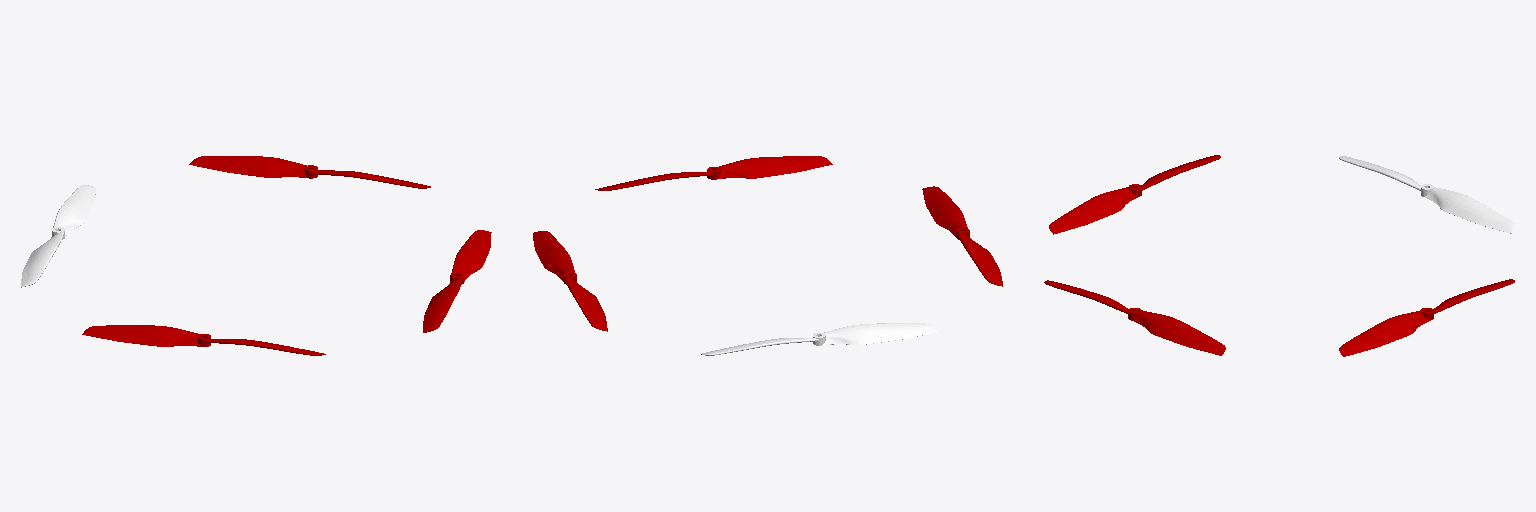
robot.urdf — swarmdrone:
<?xml version="1.0" encoding="utf-8"?>
<robot name="swarmdrone">
  <link name="base_link">
    <inertial>
      <origin xyz="0.052099 0.1036 0.13079" rpy="0 0 0" />
      <mass value="0.75873" />
      <inertia ixx="0.00031091" ixy="2.8345E-07" ixz="3.5555E-09" iyy="0.00062664" iyz="-3.1582E-08" izz="0.00051493" />
    </inertial>
    <visual>
      <geometry>
        <mesh filename="package://swarmdrone/meshes/base_link.STL" />
      </geometry>
      <material name="grey"><color rgba="0.79 0.81 0.93 1" /></material>
    </visual>
    <collision>
      <geometry>
        <mesh filename="package://swarmdrone/meshes/base_link.STL" />
      </geometry>
    </collision>
  </link>

  <link name="prop1">
    <inertial>
      <origin xyz="0 0.0052117 0" rpy="0 0 0" />
      <mass value="0.0061064" />
      <inertia ixx="4.7646E-06" ixy="0" ixz="-1.8753E-09" iyy="4.8671E-06" iyz="0" izz="1.5658E-07" />
    </inertial>
    <visual>
      <geometry><mesh filename="package://swarmdrone/meshes/prop1.STL" /></geometry>
      <material name="red"><color rgba="0.75 0 0 1" /></material>
    </visual>
    <collision>
      <geometry><mesh filename="package://swarmdrone/meshes/prop1.STL" /></geometry>
    </collision>
  </link>

  <joint name="prop1_joint" type="continuous">
    <origin xyz="0.16722 -0.011705 0.11613" rpy="1.5708 0 -2.3605" />
    <parent link="base_link" />
    <child link="prop1" />
    <axis xyz="0 1 0" />
  </joint>

  <link name="prop2">
    <inertial>
      <origin xyz="0 0.0052118 0" rpy="0 0 0" />
      <mass value="0.0061063" />
      <inertia ixx="4.7651E-06" ixy="0" ixz="1.8956E-09" iyy="4.8676E-06" iyz="0" izz="1.5657E-07" />
    </inertial>
    <visual>
      <geometry><mesh filename="package://swarmdrone/meshes/prop2.STL" /></geometry>
      <material name="red"><color rgba="0.75 0 0 1" /></material>
    </visual>
    <collision>
      <geometry><mesh filename="package://swarmdrone/meshes/prop2.STL" /></geometry>
    </collision>
  </link>

  <joint name="prop2_joint" type="continuous">
    <origin xyz="0.16722 -0.24975 0.11613" rpy="1.5708 0 2.3934" />
    <parent link="base_link" />
    <child link="prop2" />
    <axis xyz="0 1 0" />
  </joint>

  <link name="prop3">
    <inertial>
      <origin xyz="0 0.0052117 0" rpy="0 0 0" />
      <mass value="0.0061064" />
      <inertia ixx="4.7646E-06" ixy="0" ixz="-1.8748E-09" iyy="4.8671E-06" iyz="0" izz="1.5658E-07" />
    </inertial>
    <visual>
      <geometry><mesh filename="package://swarmdrone/meshes/prop3.STL" /></geometry>
      <material name="red"><color rgba="0.75 0 0 1" /></material>
    </visual>
    <collision>
      <geometry><mesh filename="package://swarmdrone/meshes/prop3.STL" /></geometry>
    </collision>
  </link>

  <joint name="prop3_joint" type="continuous">
    <origin xyz="-0.070824 -0.24975 0.11613" rpy="1.5708 0 -2.3356" />
    <parent link="base_link" />
    <child link="prop3" />
    <axis xyz="0 1 0" />
  </joint>

  <link name="prop4">
    <inertial>
      <origin xyz="0 0.0052117 0" rpy="0 0 0" />
      <mass value="0.0061064" />
      <inertia ixx="4.7646E-06" ixy="0" ixz="-1.8753E-09" iyy="4.8671E-06" iyz="0" izz="1.5658E-07" />
    </inertial>
    <visual>
      <geometry><mesh filename="package://swarmdrone/meshes/prop4.STL" /></geometry>
      <material name="white"><color rgba="1 1 1 1" /></material>
    </visual>
    <collision>
      <geometry><mesh filename="package://swarmdrone/meshes/prop4.STL" /></geometry>
    </collision>
  </link>

  <joint name="prop4_joint" type="continuous">
    <origin xyz="-0.070824 -0.0117 0.11613" rpy="1.5708 0 2.3633" />
    <parent link="base_link" />
    <child link="prop4" />
    <axis xyz="0 1 0" />
  </joint>
</robot>

--- What the picture shows (computed from the rendered views, not written in the file) ---
The picture shows the robot from 3 angles, left to right: view 1: azimuth 30°, elevation 25°; view 2: azimuth 150°, elevation 25°; view 3: azimuth 270°, elevation 25°; orthographic projection.
Robot: swarmdrone — 5 links, 4 joints (4 continuous); root link base_link; default pose: all joints at 0.
Visible links, largest first — view 1: prop3, prop1, prop4, prop2; view 2: prop4, prop2, prop3, prop1; view 3: prop2, prop1, prop4, prop3.
Boxes of the visible links, <box> form: prop3: <box>82,325,325,355</box>; prop1: <box>189,156,430,188</box>; prop4: <box>21,185,95,287</box>; prop2: <box>423,230,491,332</box>; prop4: <box>701,323,938,355</box>; prop2: <box>595,156,832,190</box>; prop3: <box>922,186,1002,286</box>; prop1: <box>533,231,607,331</box>; prop2: <box>1044,280,1225,355</box>; prop1: <box>1339,279,1514,356</box>; prop4: <box>1339,156,1514,233</box>; prop3: <box>1049,155,1220,234</box>.
Size in the robot's own frame: 0.3906 by 0.3838 by 0.009 metres.
4 mesh visuals loaded from 5 distinct referenced files (4 binary STL); not drawn: 1 (reference not matched to a file when rendering).
